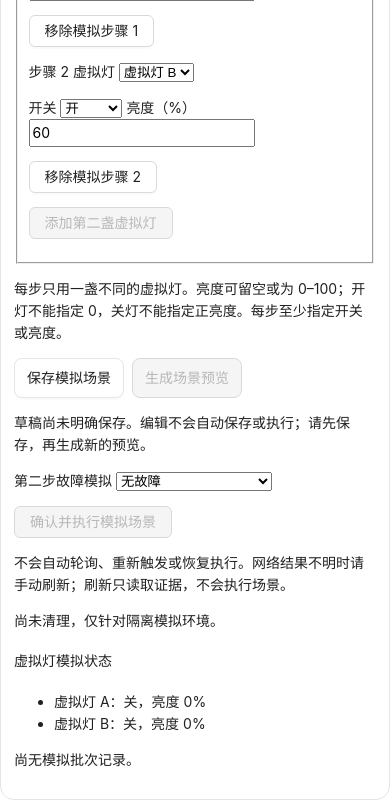
Scenario: isolated simulated scene sandbox › supports one fixed lamp, omitted power and fractional positive brightness without arbitrary fields
(page scrolled)
Select "第二步断连，结果未知" in the dropdown labelled "第二步故障模拟" at (194, 481), box [116,472,272,491]
Click the button "移除模拟步骤 1".
click(91, 31)  # box [28,15,154,47]
(page scrolled)
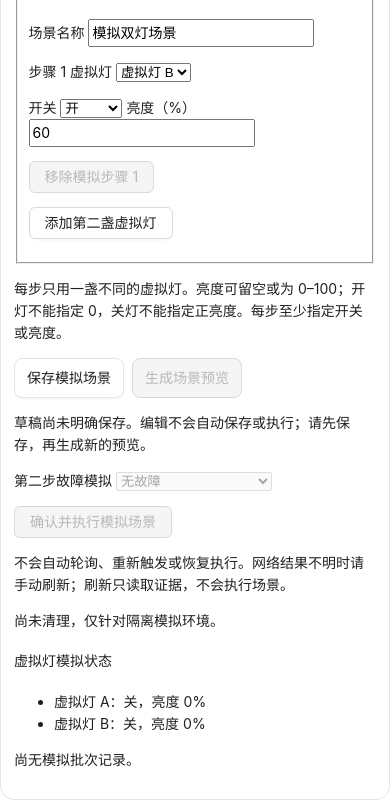
Replace the text in the field named "模拟场景名称" with " 单灯预览 " at (201, 33), box [88,19,314,47]
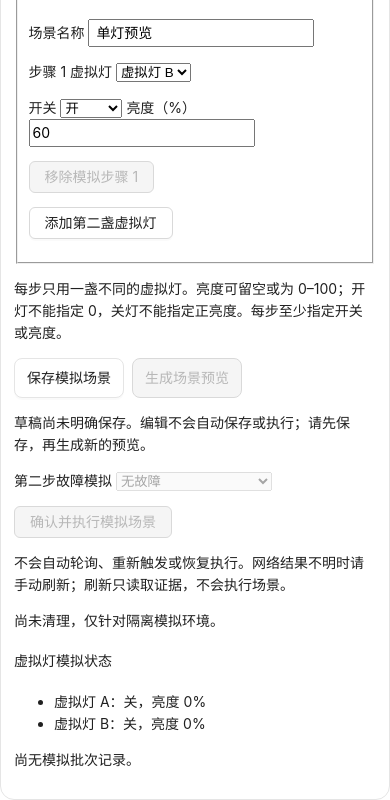
Select "不指定" in the dropdown named "模拟步骤 1 开关" at (91, 108), box [60,99,122,118]
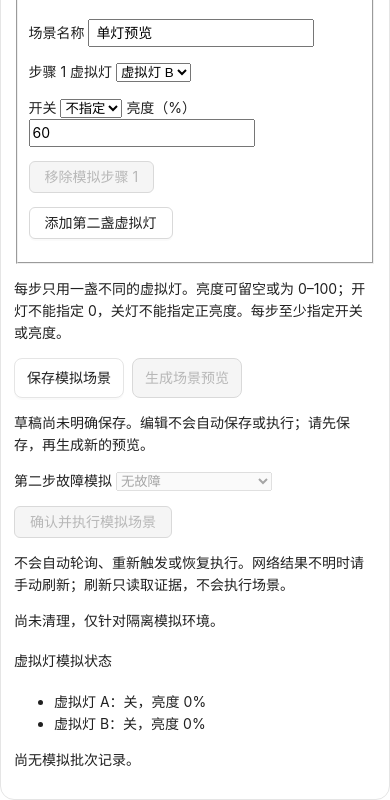
Replace the text in the number field named "模拟步骤 1 亮度" with "42.5" at (142, 133), box [28,119,254,147]
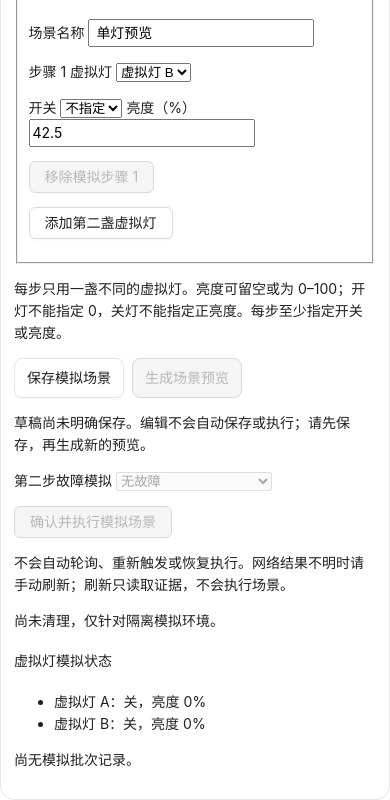
Click the button "保存模拟场景".
click(69, 378)  # box [14,358,124,398]
(page scrolled)
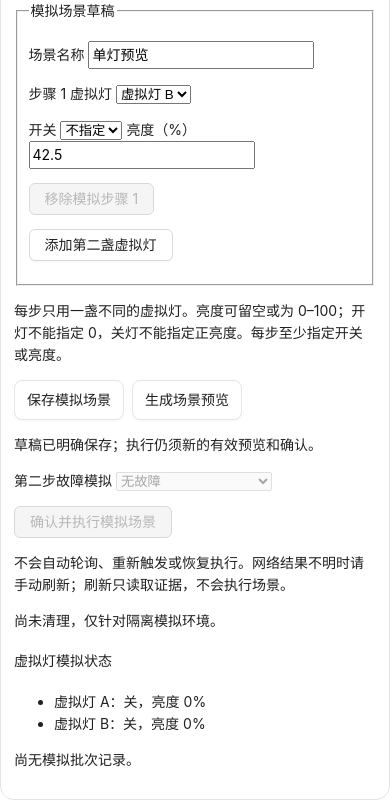
Now the dropdown labelled "第二步故障模拟" is disabled, box [116,472,272,491]
Now the button "移除模拟步骤 1" is disabled, box [28,183,154,215]
Now the text "草稿已明确保存；执行仍须新的有效预览和确认。" is shown, box [14,434,376,456]
Click the button "添加第二盏虚拟灯".
click(100, 245)  # box [28,229,172,261]
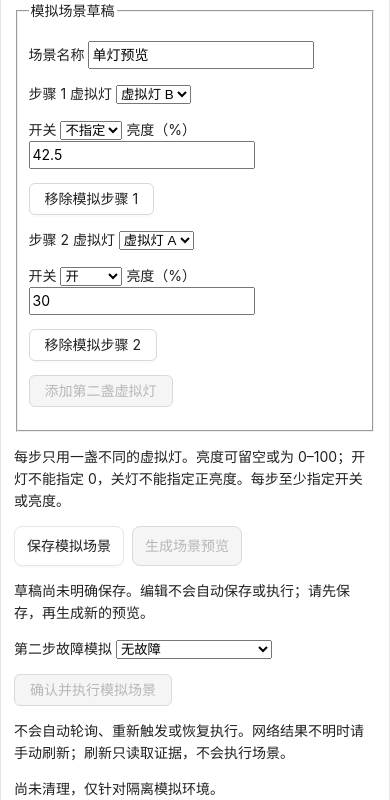
Now the dropdown named "模拟步骤 2 设备" shows "虚拟灯 A", box [119,231,194,250]
Now the button "生成场景预览" is disabled, box [132,526,242,566]
